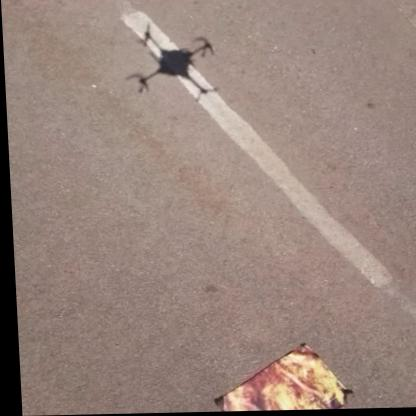fire-poster: (205, 343, 350, 413)
